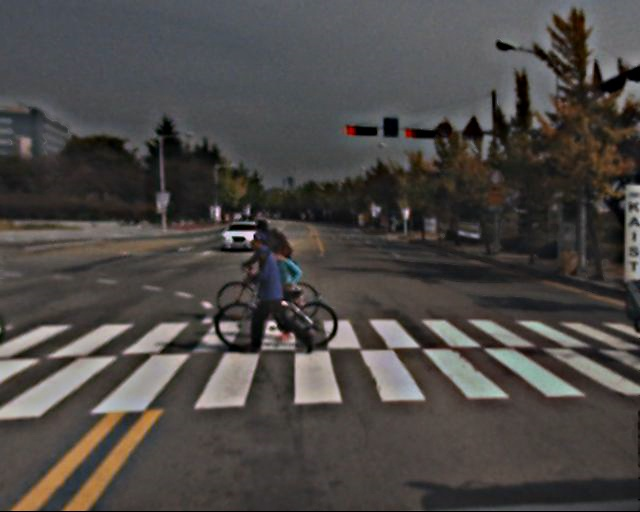person: (247, 233, 301, 354), (250, 220, 300, 332), (258, 242, 304, 336)
